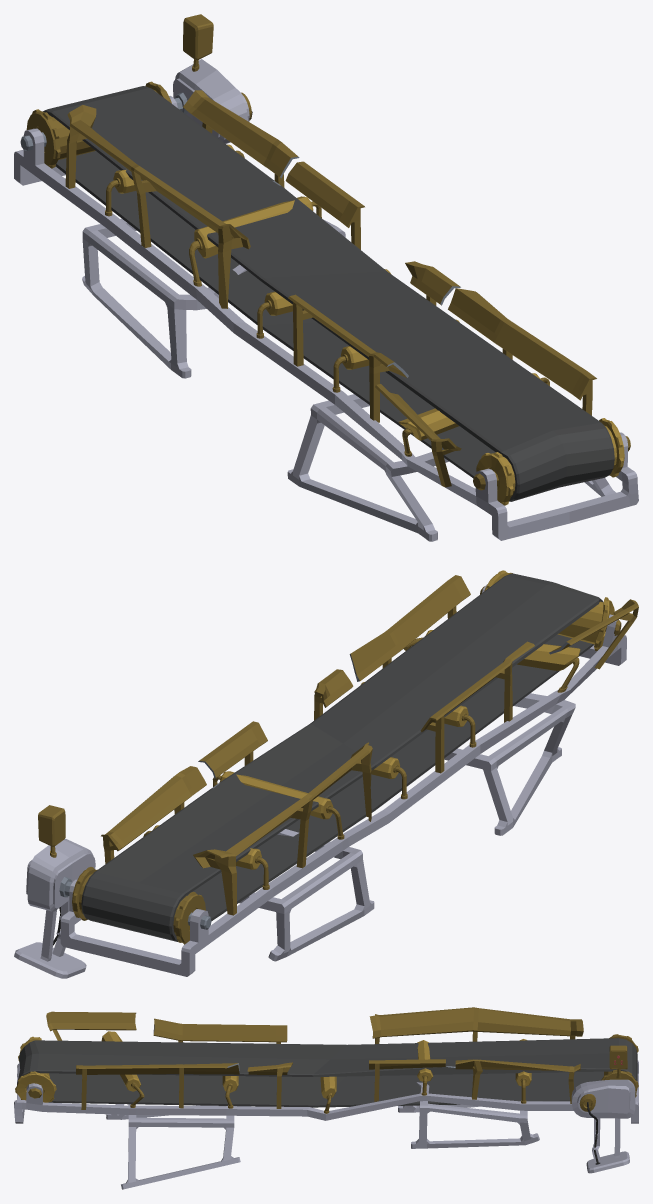
File: Cube_007_factory-conveyer_002.fbx
3 renders of one model, top to bottom at view 1: azimuth 30°, elevation 25°; view 2: azimuth 150°, elevation 25°; view 3: azimuth 270°, elevation 25°, orthographic. The views are drawn at different scales.
Visible parts, largest first — view 1: Cube.007.factory-conveyer.002; view 2: Cube.007.factory-conveyer.002; view 3: Cube.007.factory-conveyer.002.
Part boxes in pixels (x1,y1,x2,y2): Cube.007.factory-conveyer.002: (14, 14, 638, 541); Cube.007.factory-conveyer.002: (14, 570, 638, 978); Cube.007.factory-conveyer.002: (14, 1007, 638, 1189).
Bounding box in the file's own units: 1.89 × 1.5 × 6.4.
